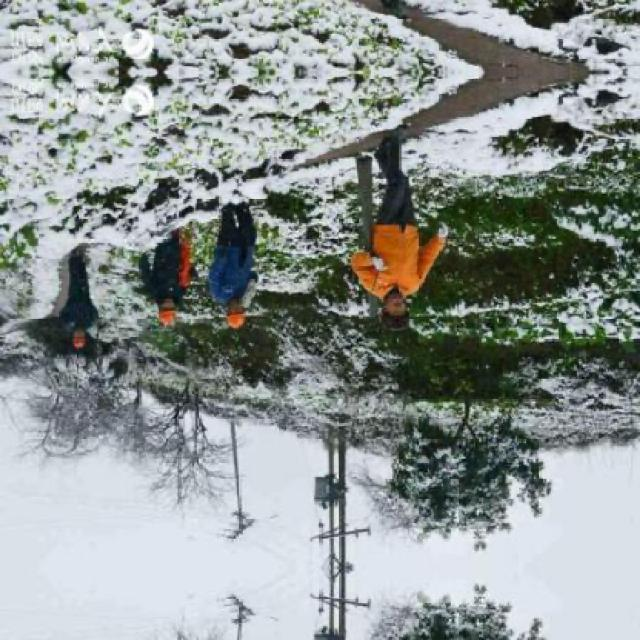con casco: (137, 285, 199, 336), (214, 298, 266, 351), (33, 310, 107, 347)
sin casco: (358, 271, 424, 314)
